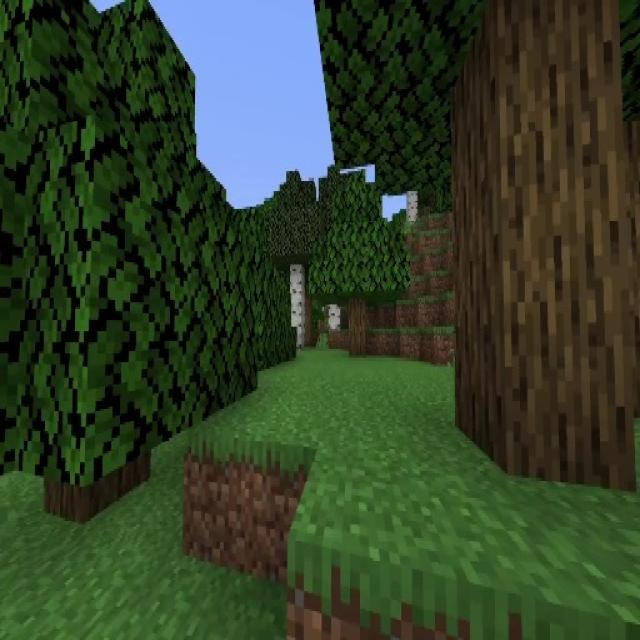birch: (265, 170, 329, 357)
birch_log: (290, 265, 305, 352), (328, 304, 341, 332), (407, 190, 418, 222)
oak: (319, 9, 640, 494), (0, 0, 260, 516), (312, 173, 410, 351)
oak_log: (457, 0, 640, 495), (348, 300, 364, 352)
